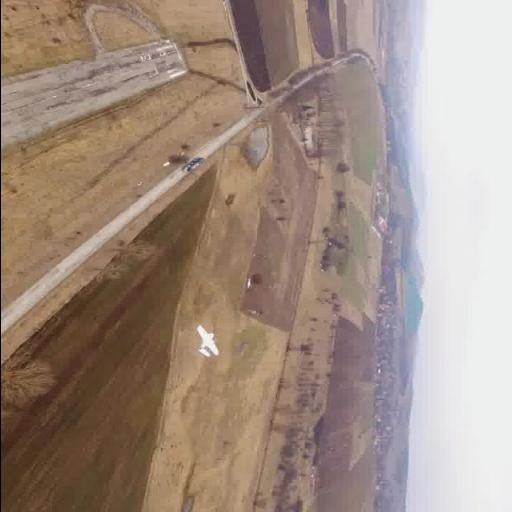uav: (188, 318, 224, 364)
